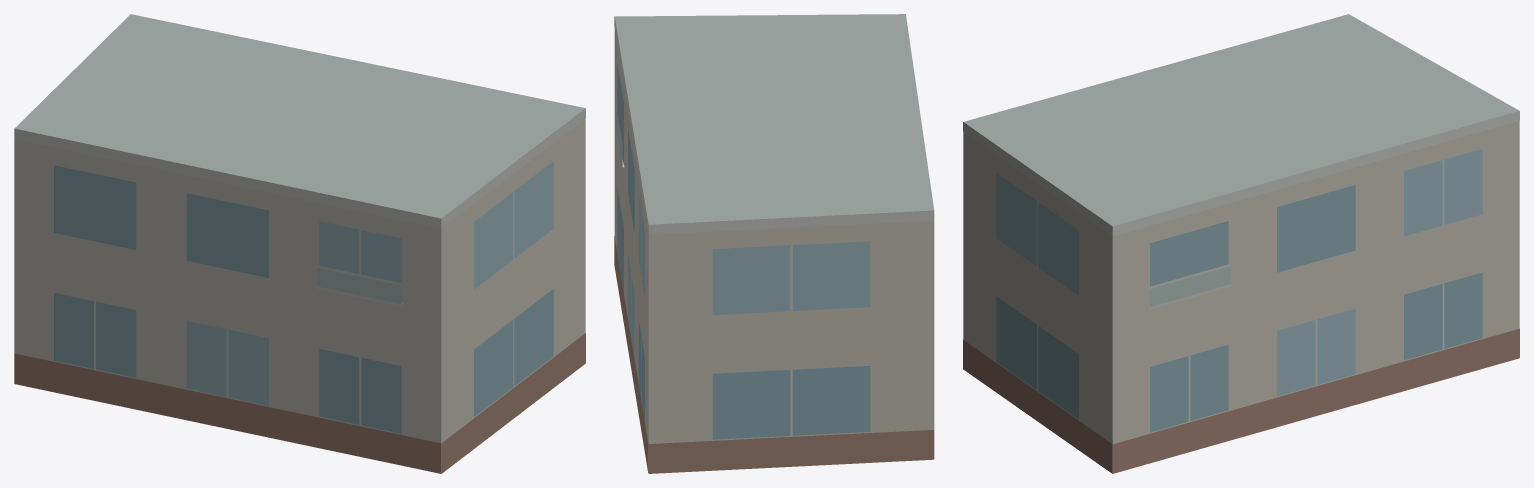
Rendered from survey-upis-33012515.glb.
The picture shows the model from 3 angles, left to right: view 1: azimuth 30°, elevation 25°; view 2: azimuth 150°, elevation 25°; view 3: azimuth 270°, elevation 25°; orthographic projection. The views are drawn at different scales.
Parts seen in each view (by area): view 1: survey-upis-33012515.tmp; view 2: survey-upis-33012515.tmp; view 3: survey-upis-33012515.tmp.
Boxes of the visible parts, bbox=[...] form: survey-upis-33012515.tmp: bbox=[14, 14, 585, 473]; survey-upis-33012515.tmp: bbox=[614, 14, 934, 473]; survey-upis-33012515.tmp: bbox=[963, 14, 1519, 473].
Bounding box in the file's own units: 11.25 × 6.1 × 12.44.
